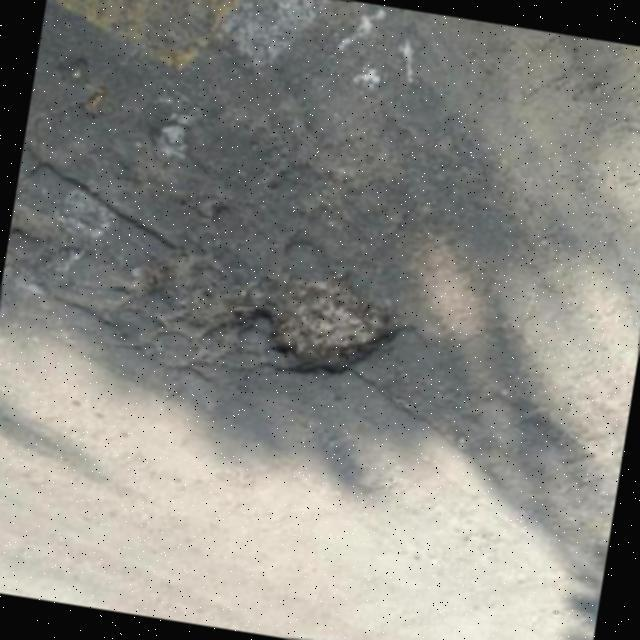Pothole: (135, 256, 398, 368)
